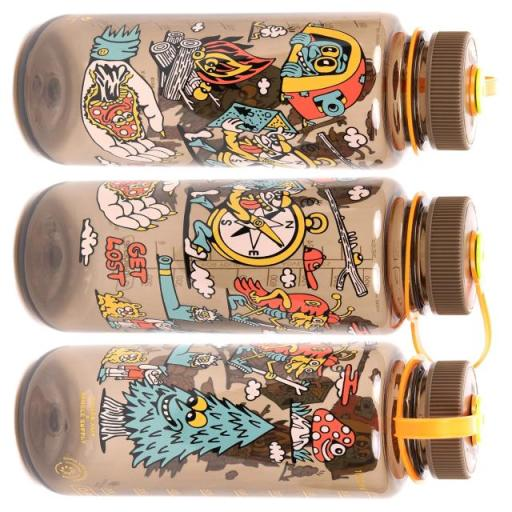bottle: (22, 178, 493, 368), (20, 12, 493, 166), (21, 340, 478, 498)
